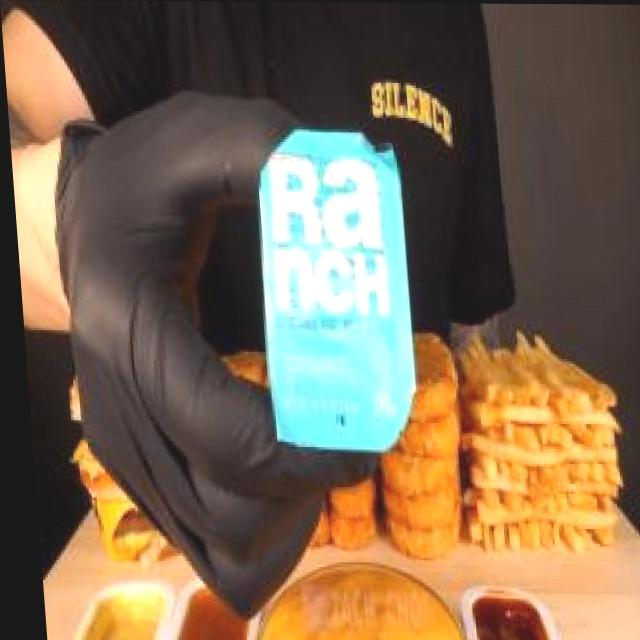Hashbrown: (362, 325, 469, 569)
burger: (51, 355, 186, 571)
french fries: (446, 317, 624, 568)
nugget: (281, 451, 382, 560)
